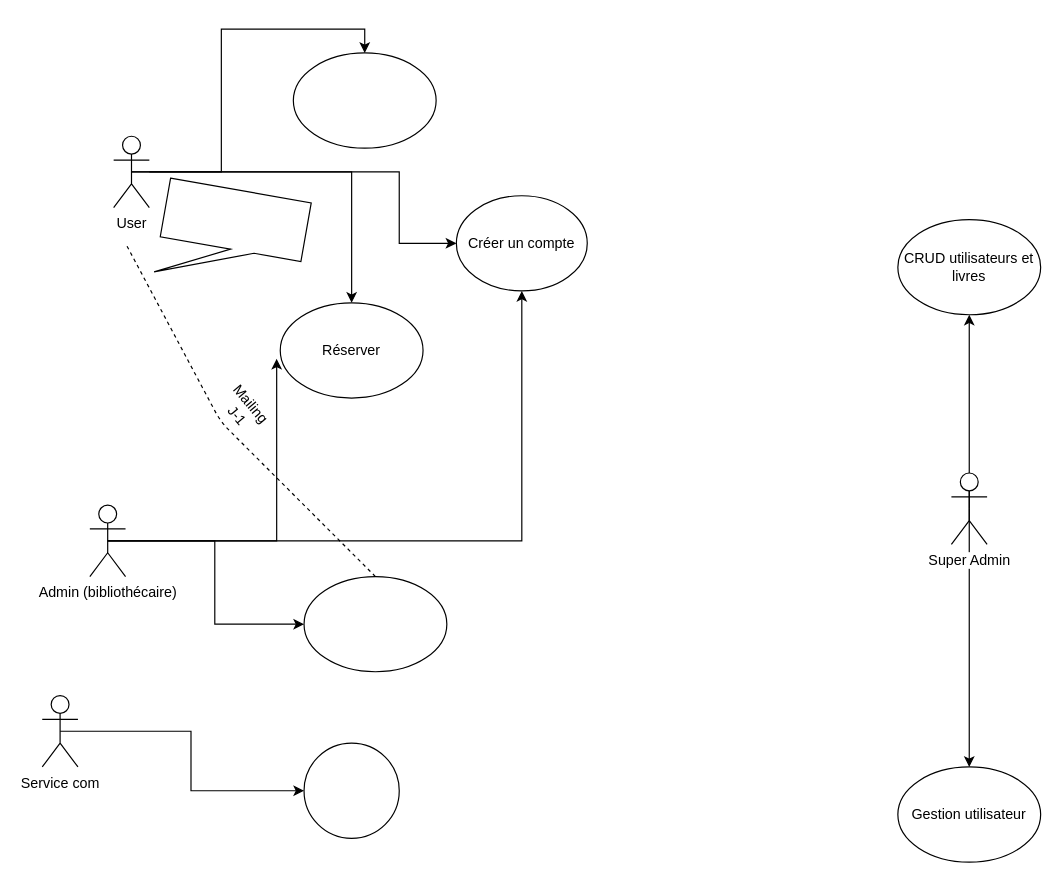
The diagram is 1061 pixels wide and 883 high, and some of its shapes have lost their labels. Each missing label, with the centre of its shape:
Consulter (système d'autocomplétion ?): [364,100]
Gestion des évènements: [351,790]
Possibilité prolongation (1*): [232,237]
Retour des livres: [375,623]
